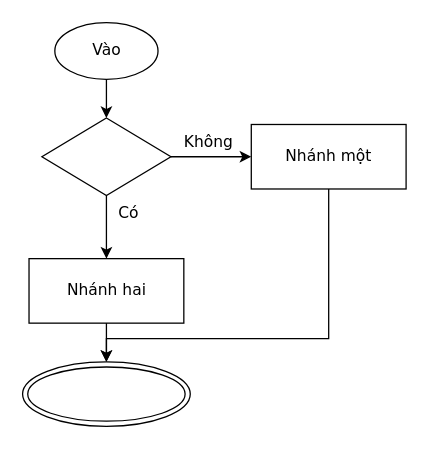
This 430x449 diagram has some shape labels left out. Each missing label, with the box of its shape:
Hợp nhánh: (21, 361, 190, 426)
Rẽ?: (41, 117, 171, 195)
